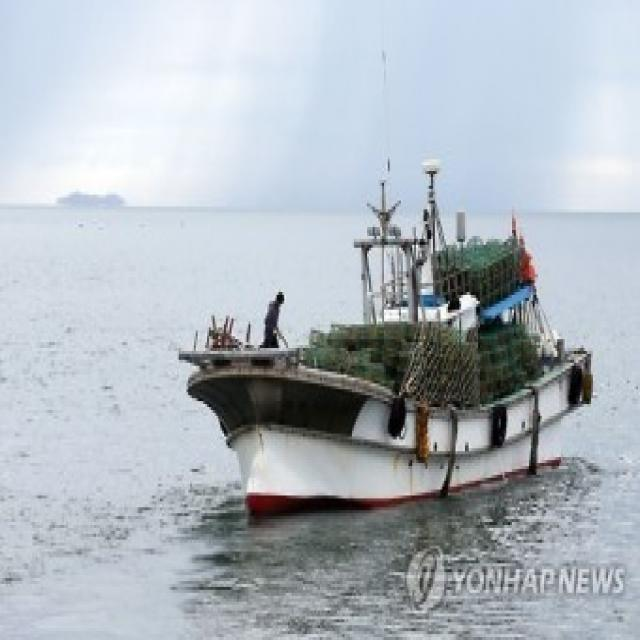Ship: (178, 146, 606, 544)
